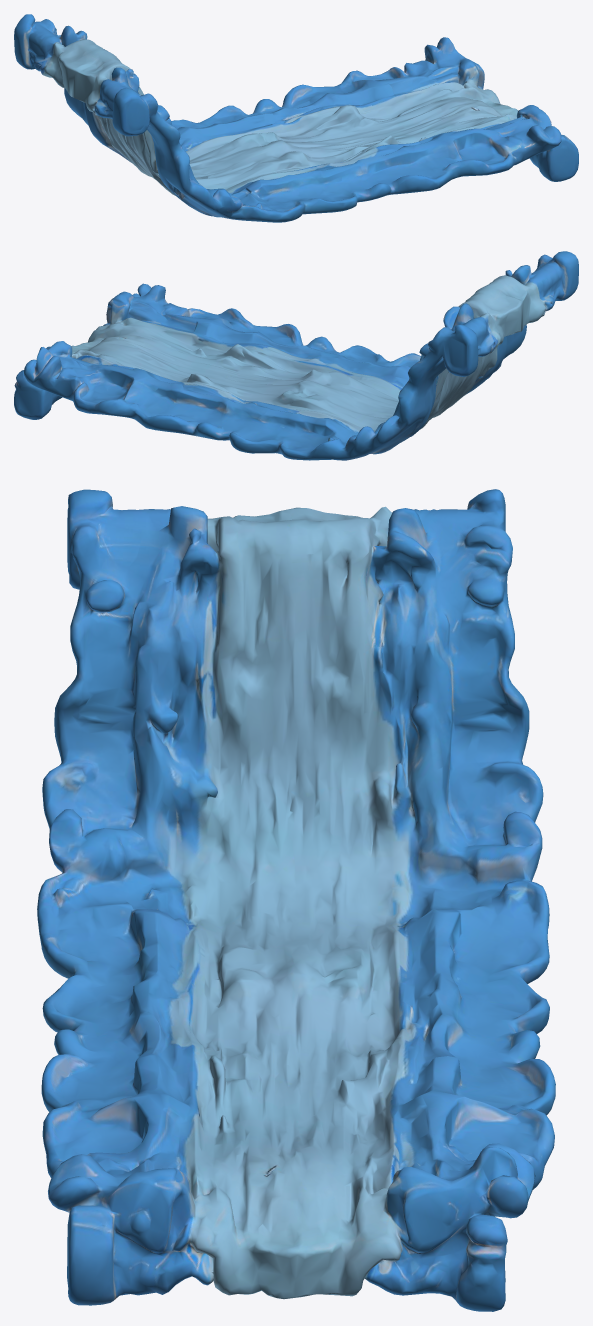
The model's file is nature-river.glb.
3 renders of one model, top to bottom at view 1: azimuth 30°, elevation 25°; view 2: azimuth 150°, elevation 25°; view 3: azimuth 270°, elevation 25°, orthographic. The views are drawn at different scales.
Visible parts, largest first — view 1: tripo_node_4a20aef0-8356-4637-b0ba-96545e607f56; view 2: tripo_node_4a20aef0-8356-4637-b0ba-96545e607f56; view 3: tripo_node_4a20aef0-8356-4637-b0ba-96545e607f56.
Part boxes in pixels (x1=…): tripo_node_4a20aef0-8356-4637-b0ba-96545e607f56: x1=14, y1=14, x2=578, y2=222; tripo_node_4a20aef0-8356-4637-b0ba-96545e607f56: x1=14, y1=251, x2=578, y2=460; tripo_node_4a20aef0-8356-4637-b0ba-96545e607f56: x1=37, y1=489, x2=555, y2=1311.
Size of the model in its own units: 0.2414 by 0.1 by 0.1181.
1 material, 1 textured.
